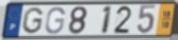1: (101, 5, 113, 35)
2: (113, 4, 134, 36)
5: (136, 3, 158, 36)
8: (68, 6, 88, 36)
G: (20, 7, 45, 36), (44, 6, 67, 36)
